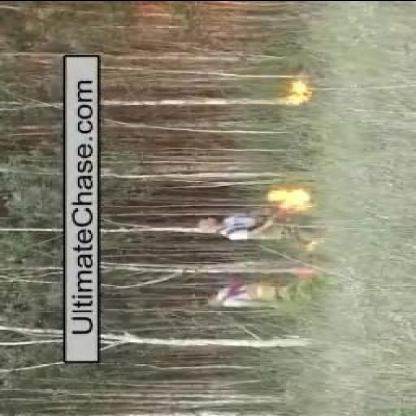foggia-v2-map80-epoch100 - v1 4323: (267, 188, 311, 209), (285, 81, 313, 103)
